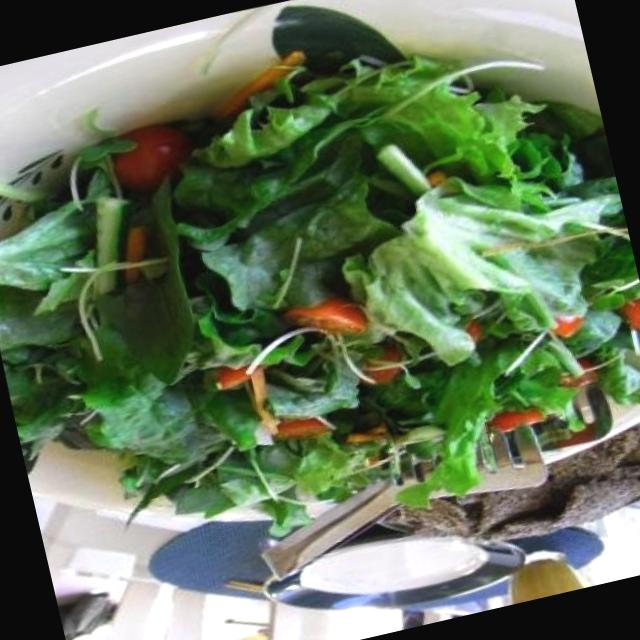Green Salad: (0, 6, 640, 576)
